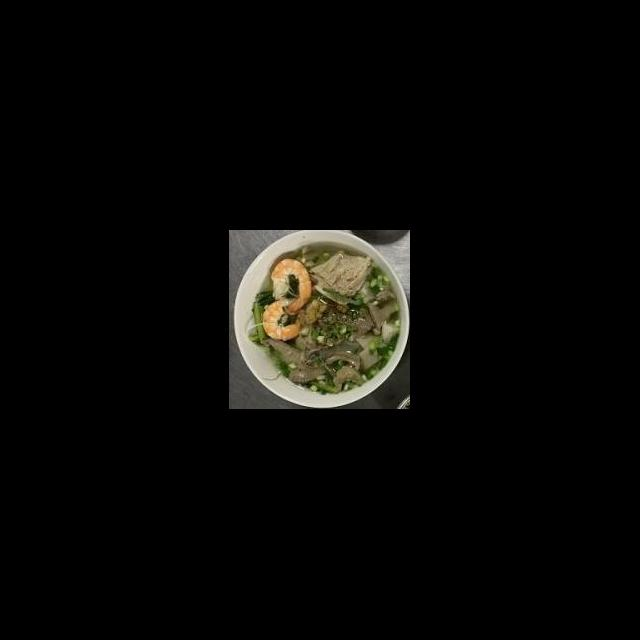gan: (264, 337, 338, 388)
thit heo: (306, 250, 376, 308)
tom: (270, 258, 316, 316), (260, 296, 318, 342)
